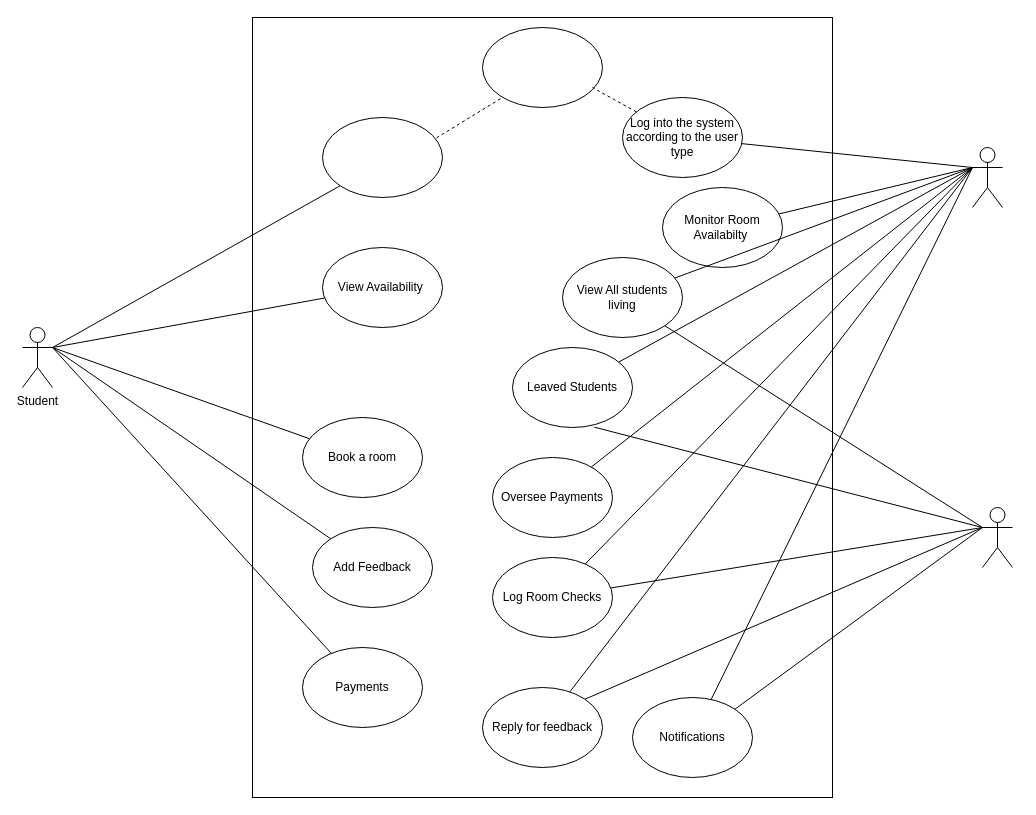
The diagram is 1036 pixels wide and 815 high, and some of its shapes have lost their labels. The shapes that lost their labels are listed below. From the top down, each one's centre as x and y in pixels, then its label:
At point (542, 67): "Select Role".
At point (382, 157): "Registration".
At point (987, 177): "Admin".
At point (997, 537): "Warden".
